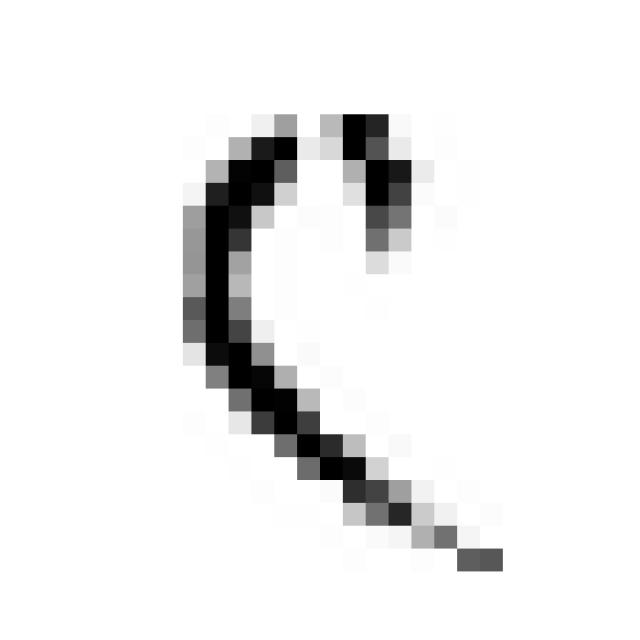2 -two-: (162, 80, 523, 599)
